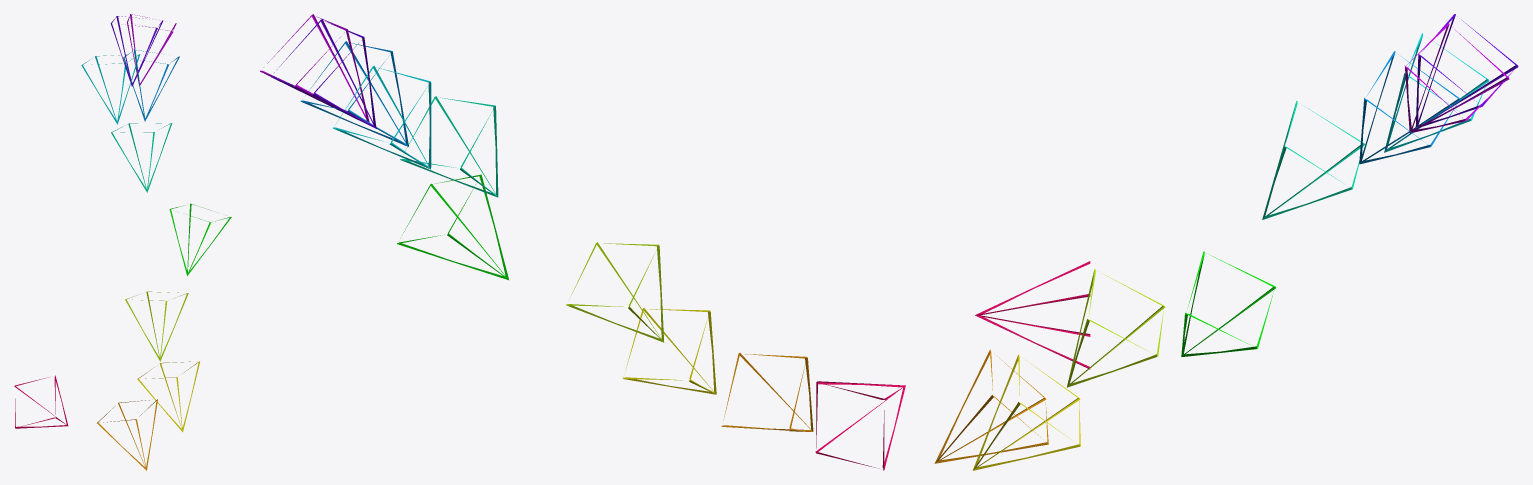
Rendered from wrist_video_90.glb.
3 views of the same model, side by side, from view 1: azimuth 30°, elevation 25°; view 2: azimuth 150°, elevation 25°; view 3: azimuth 270°, elevation 25° (orthographic). The views are drawn at different scales.
Visible parts, largest first — view 1: world; view 2: world; view 3: world.
Part boxes in pixels (bbox=[...]): world: bbox=[14, 14, 231, 470]; world: bbox=[260, 14, 905, 470]; world: bbox=[934, 14, 1518, 470].
Bounding box in the file's own units: 0.5702 × 0.6472 × 0.6206.
